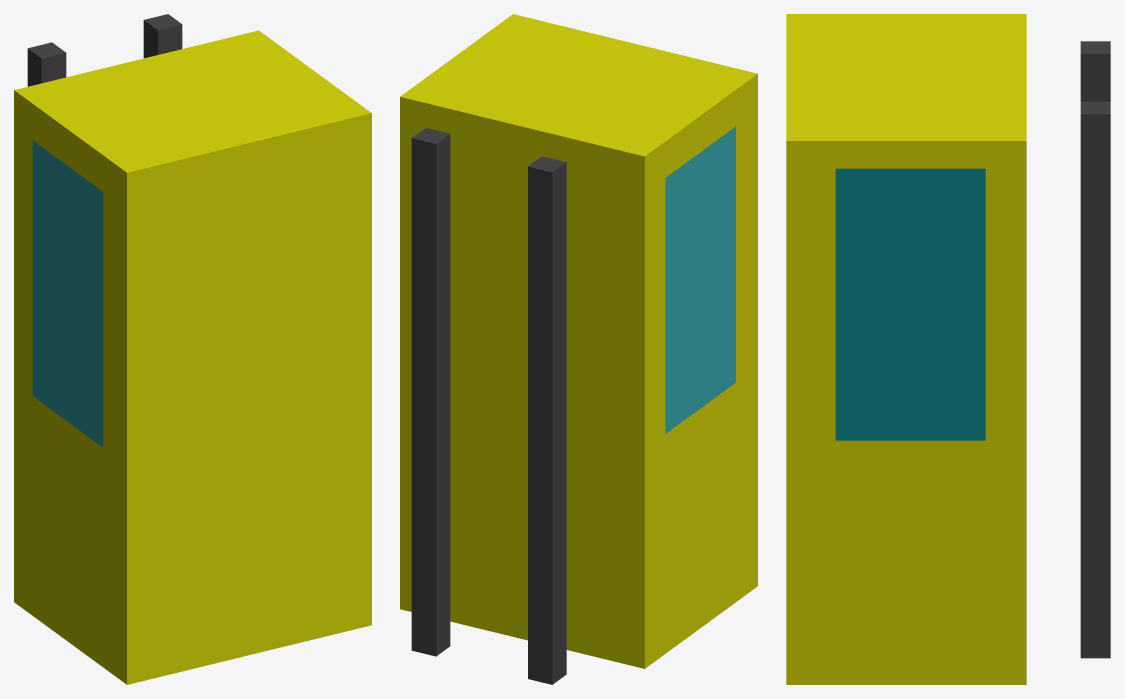
File: liftfork.glb
3 renders of one model, left to right at view 1: azimuth 30°, elevation 25°; view 2: azimuth 150°, elevation 25°; view 3: azimuth 270°, elevation 25°, orthographic. The views are drawn at different scales.
Parts seen in each view (by area): view 1: Plane; view 2: Plane; view 3: Plane.
Part boxes in pixels (x1=…): Plane: x1=14, y1=14, x2=371, y2=684; Plane: x1=400, y1=14, x2=757, y2=684; Plane: x1=786, y1=14, x2=1110, y2=684.
Size of the model in its own units: 2.02 by 4 by 2.16.
